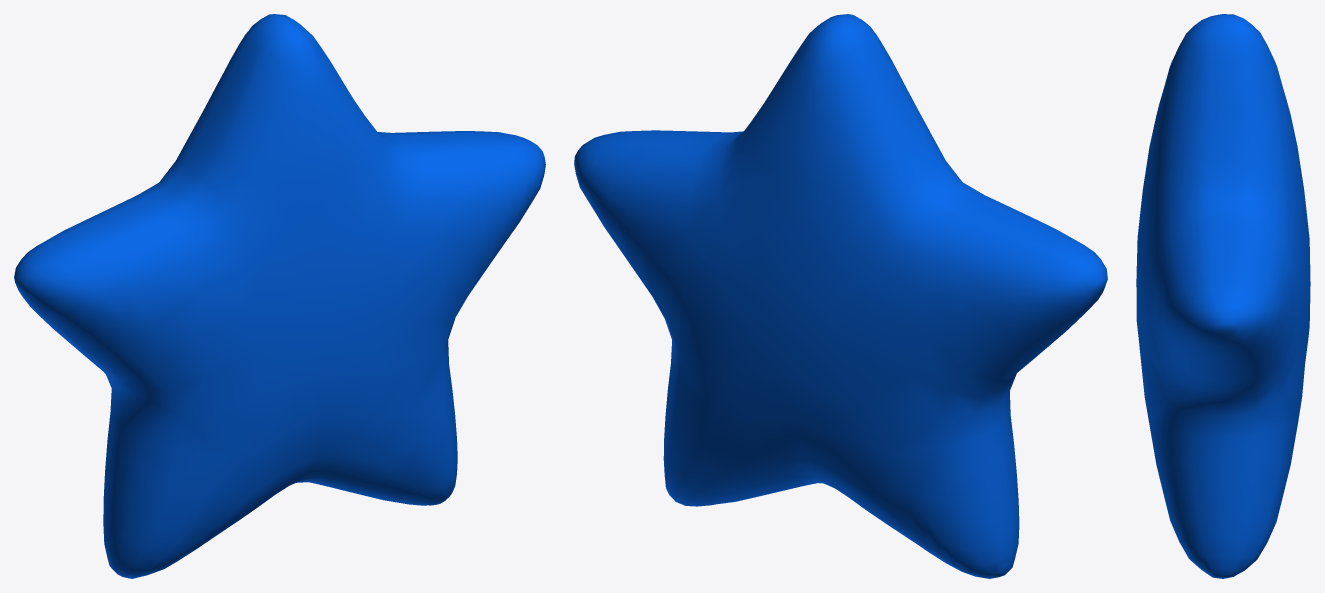
The model's file is Star_01.fbx.
The picture shows the model from 3 angles, left to right: view 1: azimuth 30°, elevation 25°; view 2: azimuth 150°, elevation 25°; view 3: azimuth 270°, elevation 25°; orthographic projection. The views are drawn at different scales.
Parts seen in each view (by area): view 1: Star_01; view 2: Star_01; view 3: Star_01.
Part boxes in pixels (<box>): Star_01: <box>14,14,545,578</box>; Star_01: <box>574,14,1107,578</box>; Star_01: <box>1136,14,1310,578</box>.
Size of the model in its own units: 76.54 by 72.81 by 23.37.
